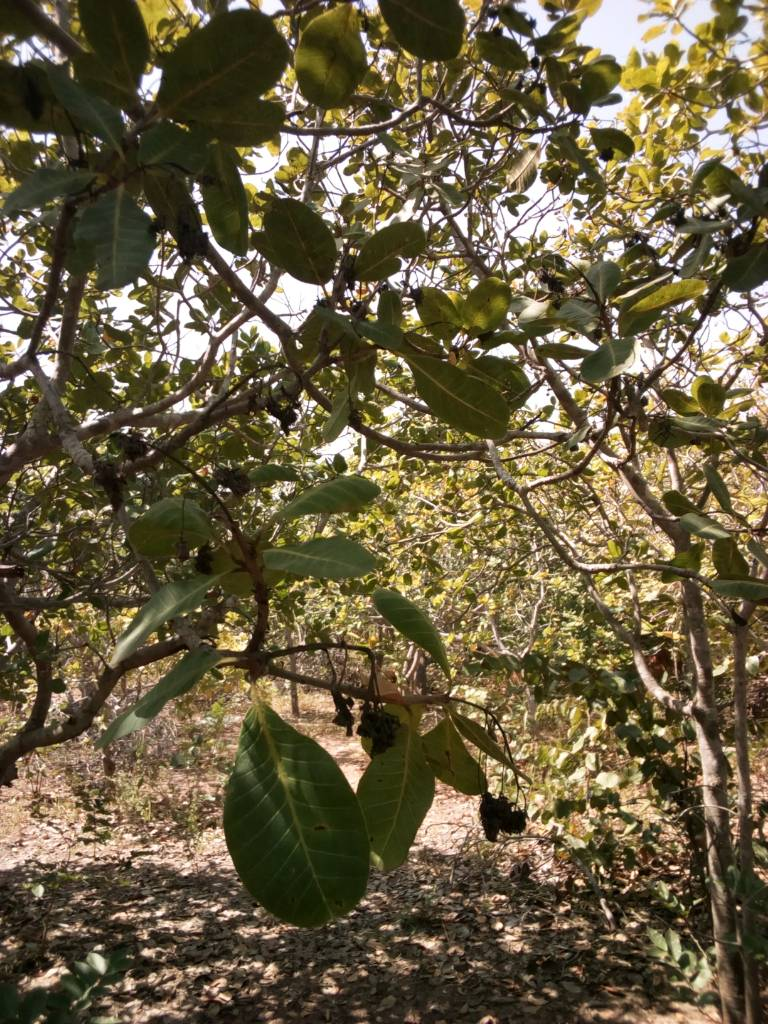Die-black: (474, 781, 547, 862), (313, 680, 380, 752), (355, 691, 411, 771), (253, 377, 303, 450), (178, 539, 216, 586)
